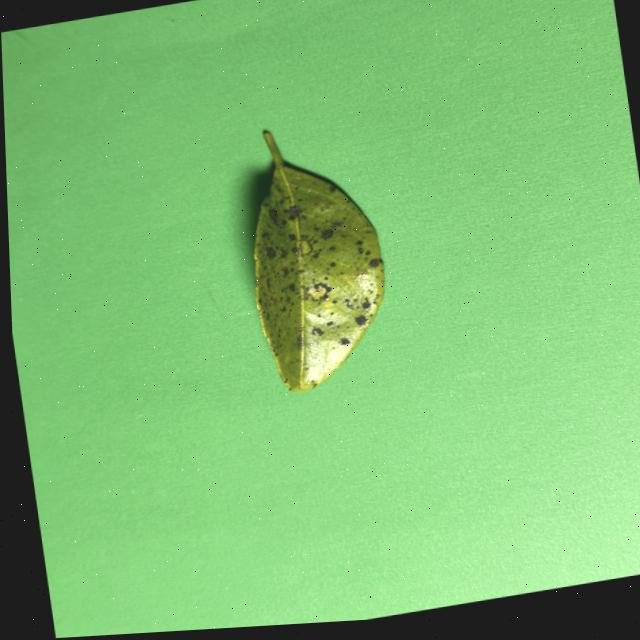sooty_mold: (254, 132, 384, 391)
